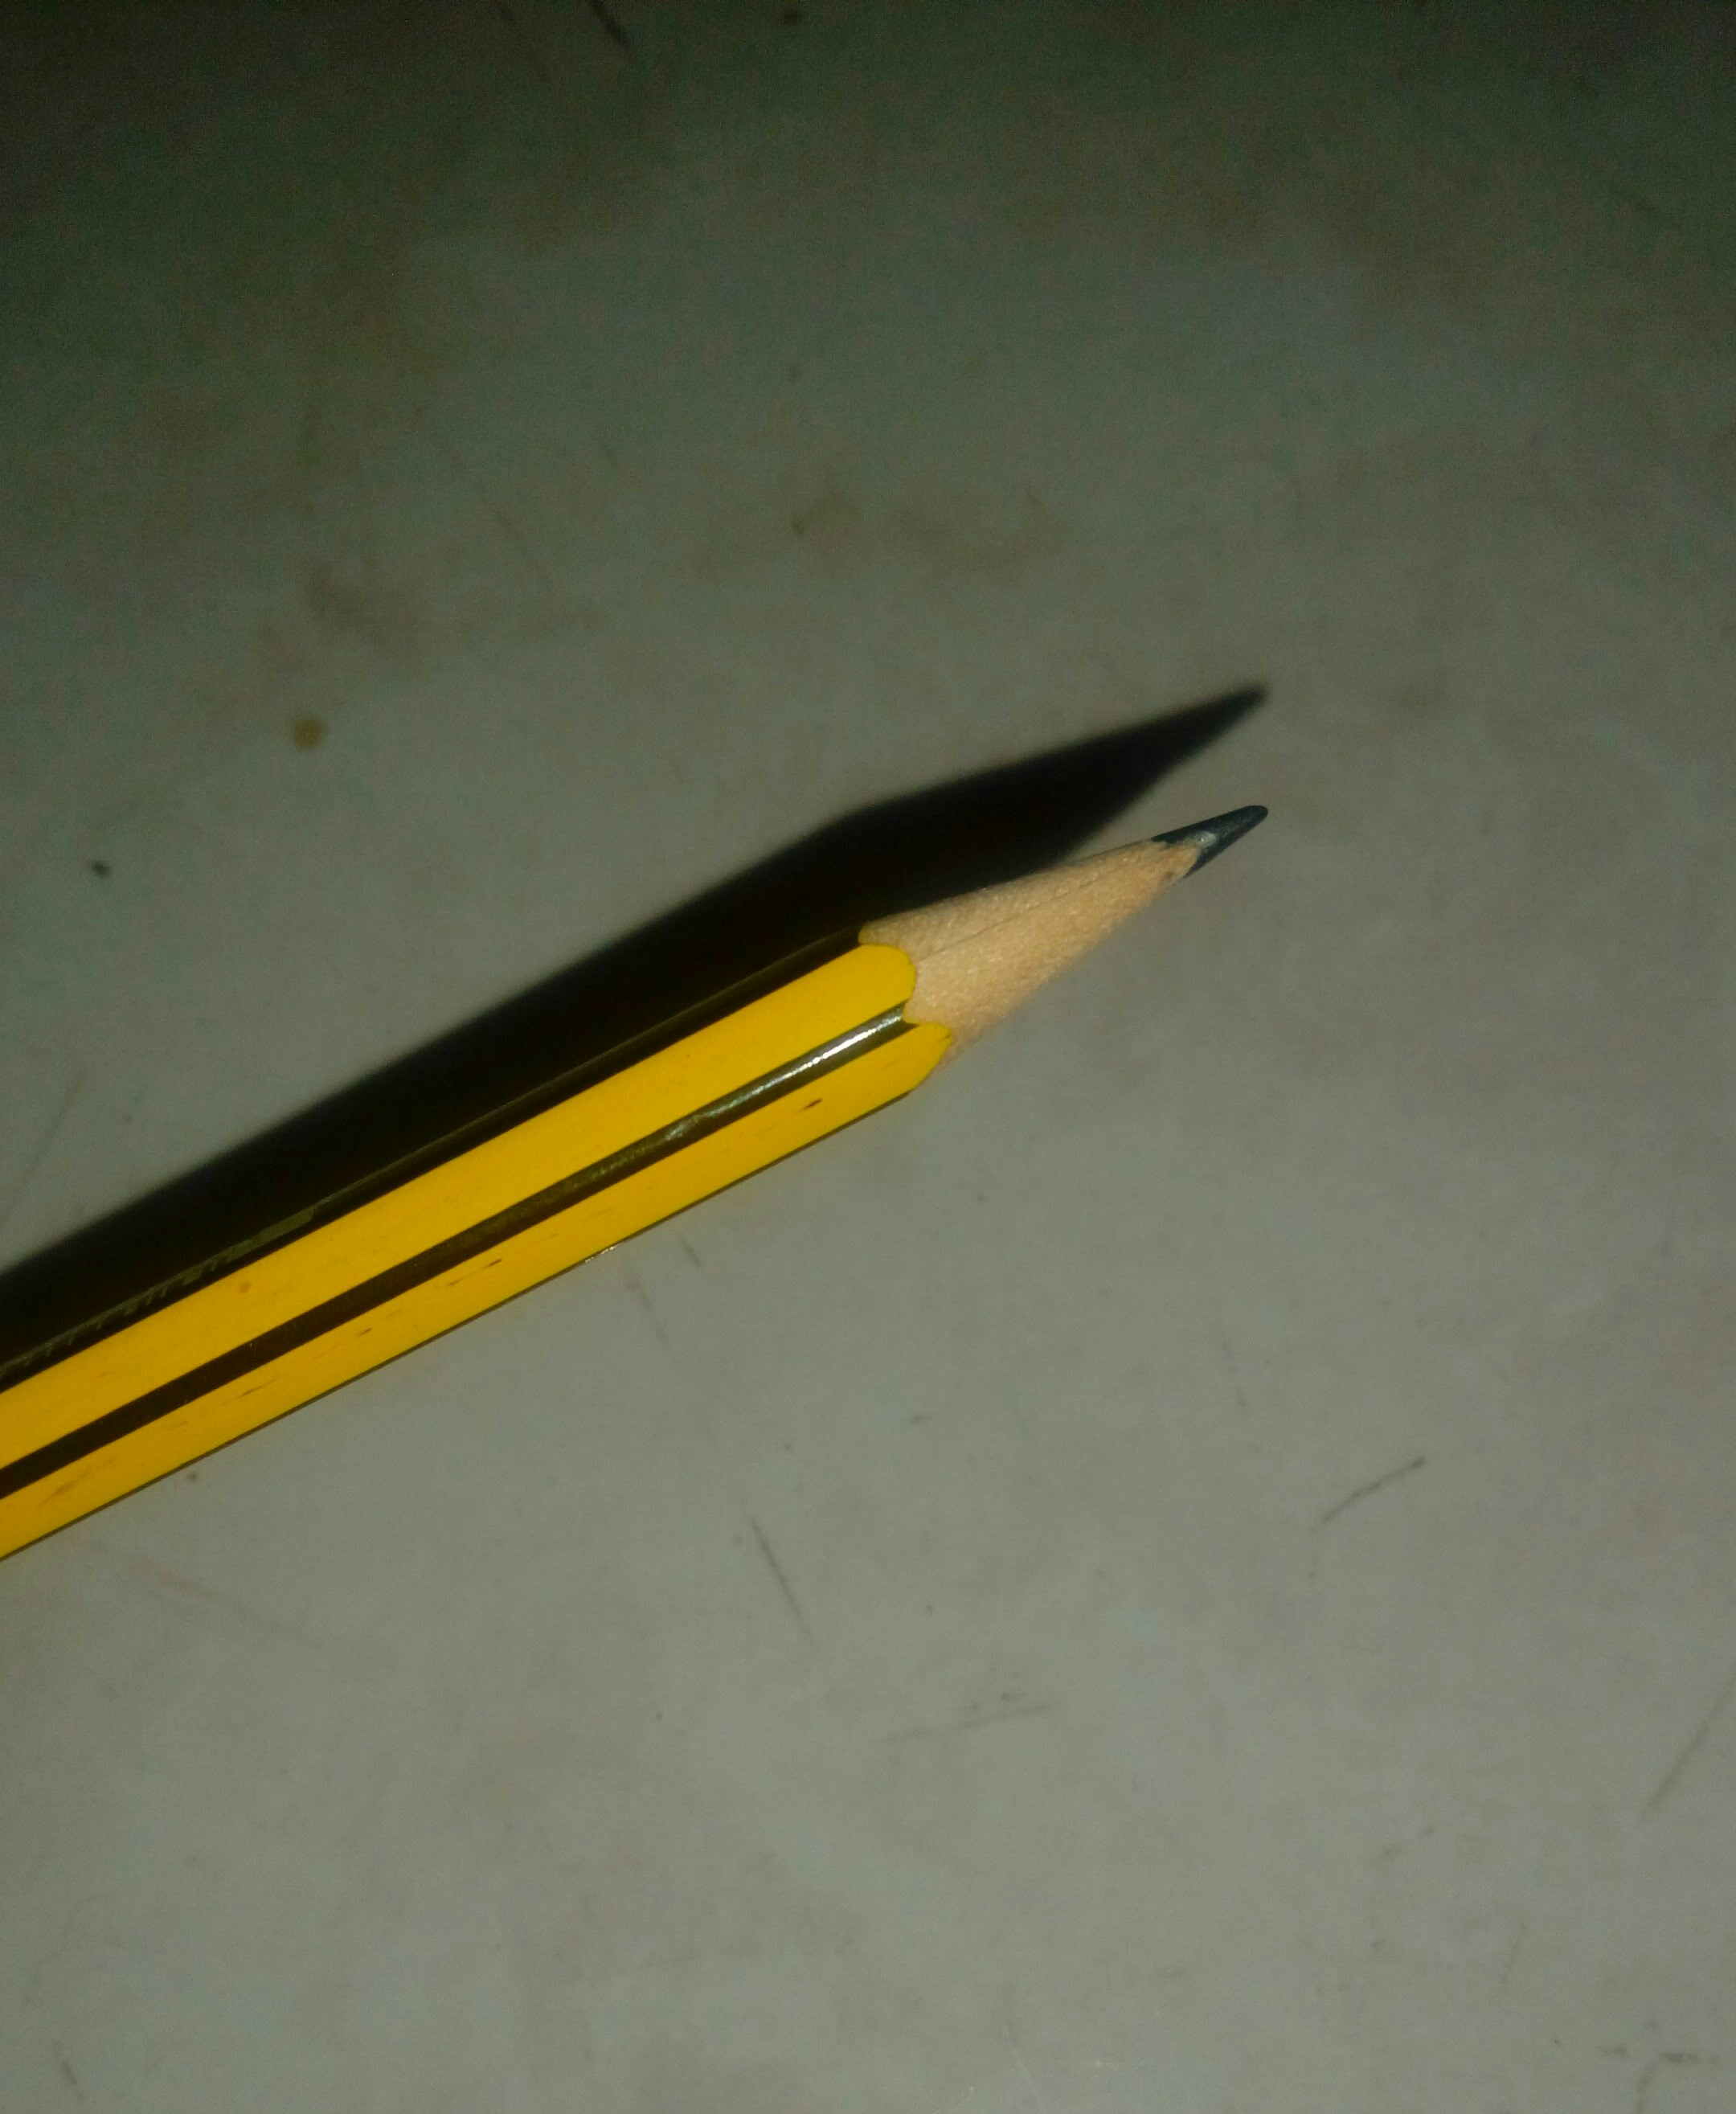pen_tip: (714, 757, 1339, 1131)
